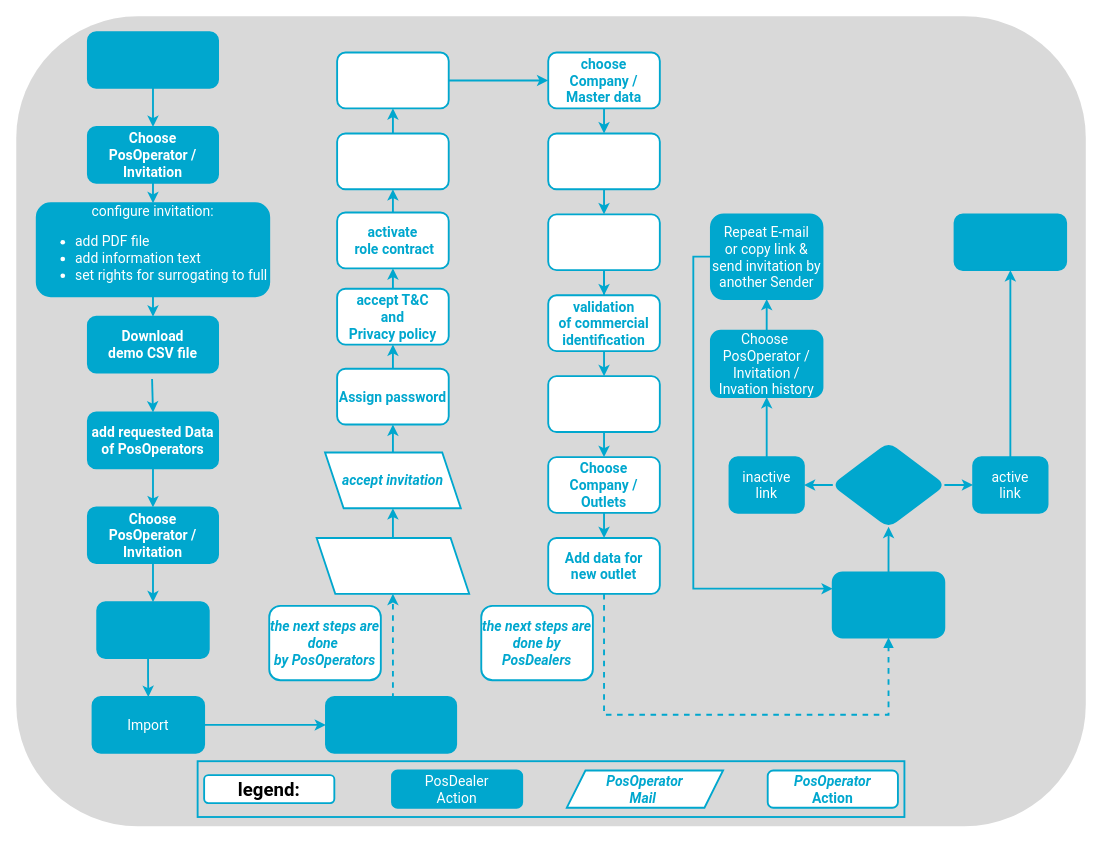
Image size: 1101x842. Some labels were removed from this diagram. The centre of each missing label's shape, as x and y in pixels:
"accept again T&C and Privacy Policy" goes at [392,161].
"check address" goes at [603,161].
"check or add commercial identification" goes at [603,242].
"Choose file..." goes at [152,629].
"Choose: Assign all PosOperators" goes at [391,724].
"do not Assign further roles" goes at [392,80].
"PosDealer: Choose PosOperator / Overview" goes at [888,604].
"PosDealer: Open fiskaltrust.Portal" goes at [152,59].
"PosOperator: Open Mail account" goes at [392,565].
"ready to surrogate" goes at [1010,242].
"save Master data" goes at [603,403].
"Search new PosOperator" goes at [888,484].
